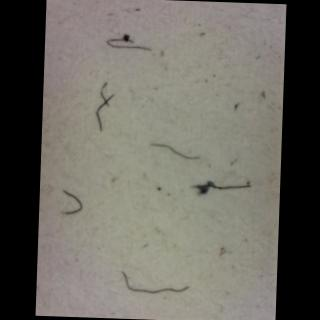Microplastic: (106, 262, 198, 308), (89, 72, 125, 142), (138, 132, 205, 168), (190, 170, 252, 202), (98, 29, 152, 62), (54, 182, 87, 224)
